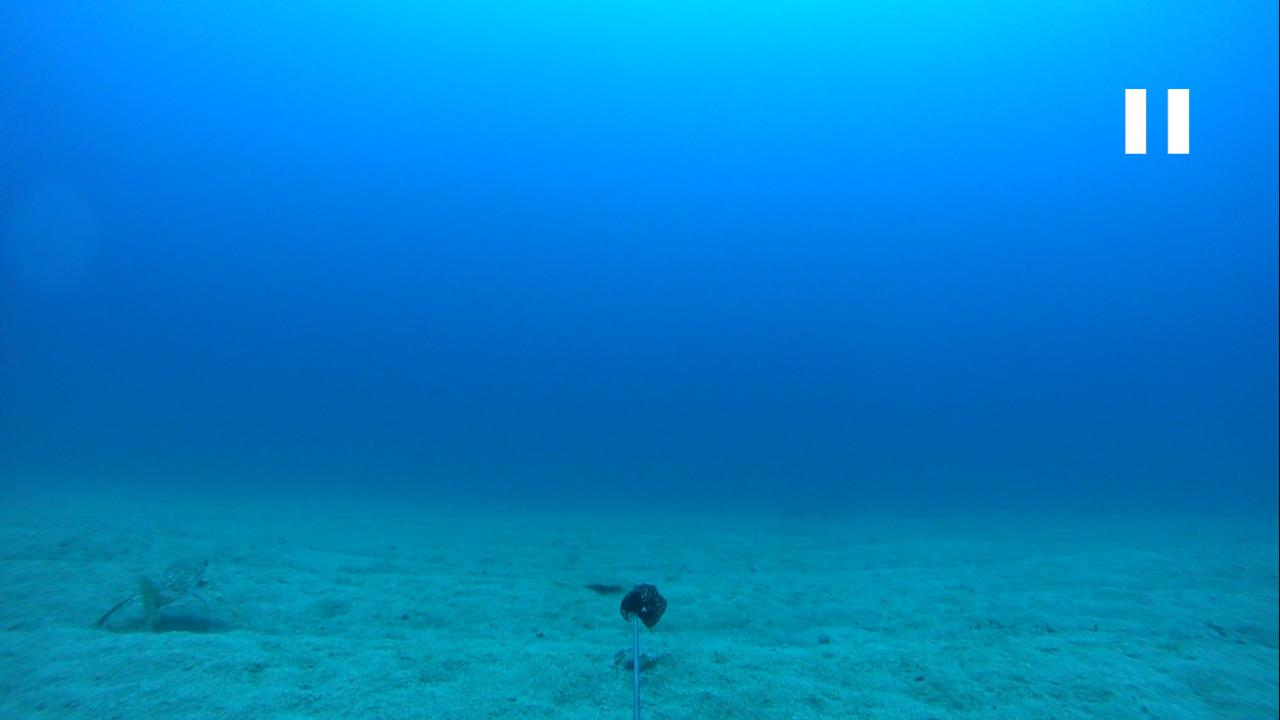bothus: (585, 570, 625, 592)
dactylopterus: (82, 546, 233, 643)
